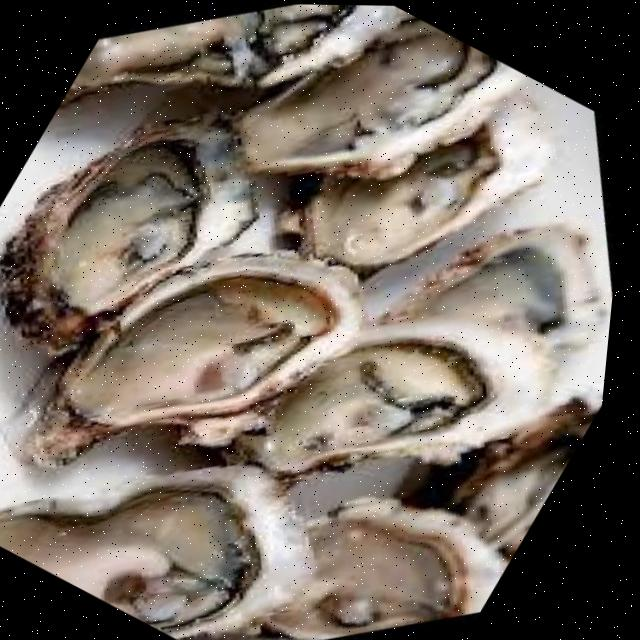Oyster-Open: (35, 252, 361, 457), (0, 113, 257, 352), (0, 466, 313, 637), (253, 320, 550, 474), (238, 18, 522, 179), (302, 99, 549, 268), (265, 499, 507, 640), (387, 223, 604, 358), (449, 400, 597, 561)
